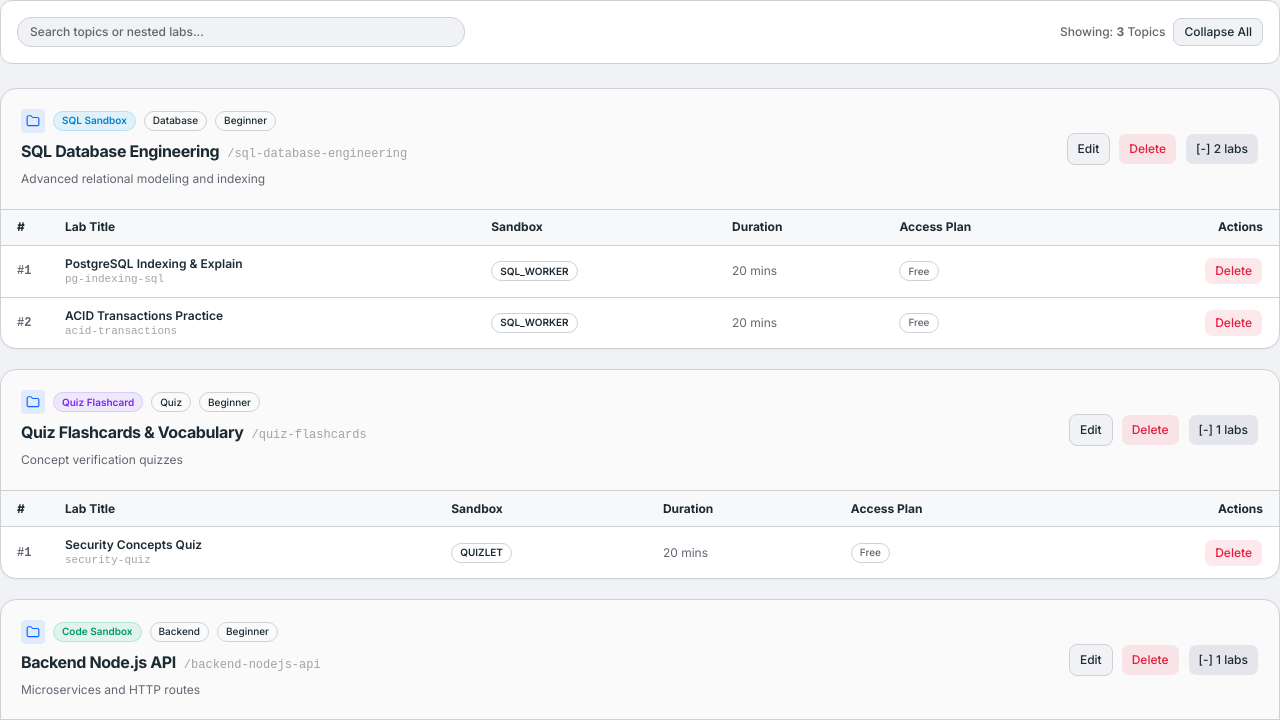
AdminTopicHierarchy Component Suite › collapses and expands topic labs when clicking toggle button
The image size is (1280, 720).
Expected: the text "PostgreSQL Indexing & Explain" is shown, [65,256,243,271]
Click the button titled "Collapse labs" at (1222, 149), box [1185,133,1259,165]
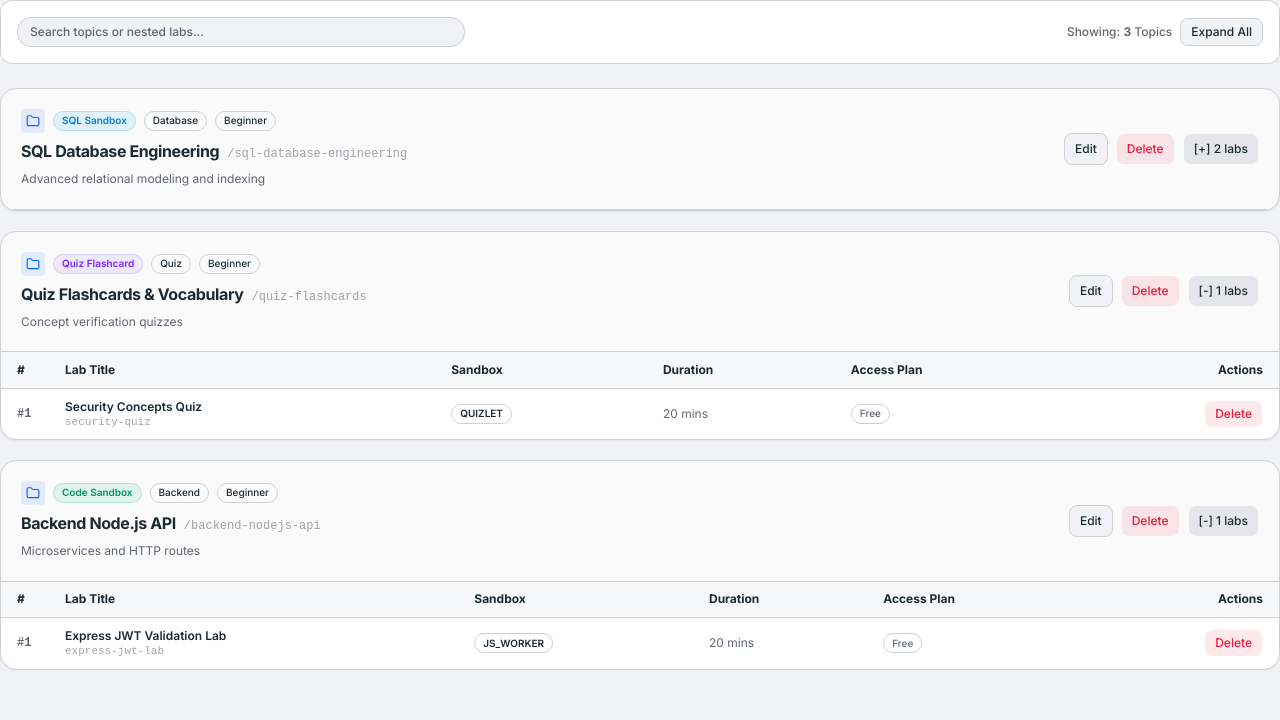
Expected: the text "PostgreSQL Indexing & Explain" is gone
Click the button titled "Expand labs" at (1221, 149), box [1183,133,1259,165]
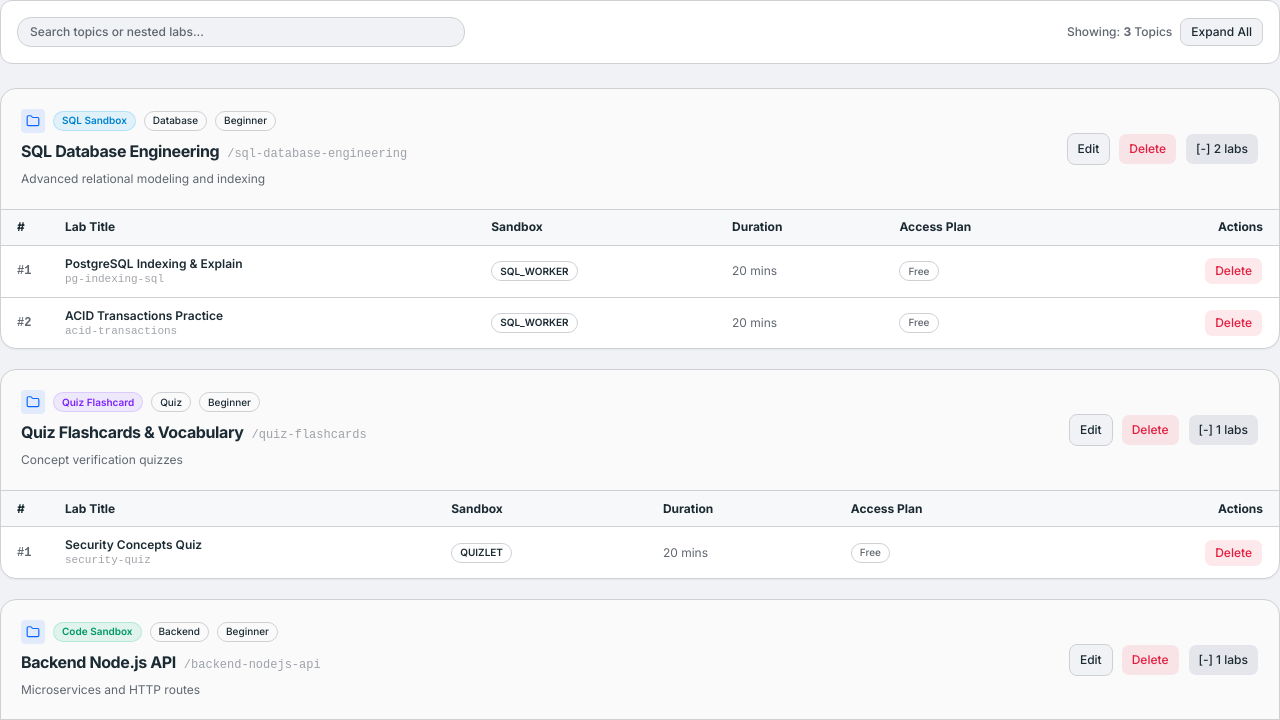
Expected: the text "PostgreSQL Indexing & Explain" is shown, [65,256,243,271]
